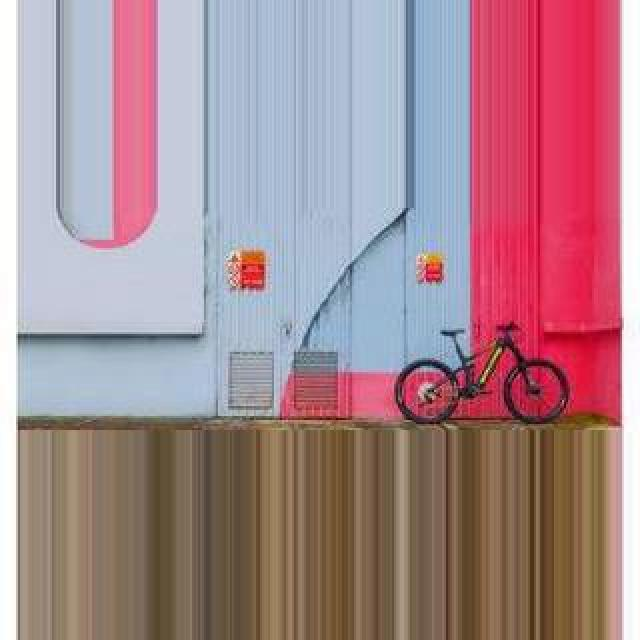Person: (397, 319, 571, 423)
